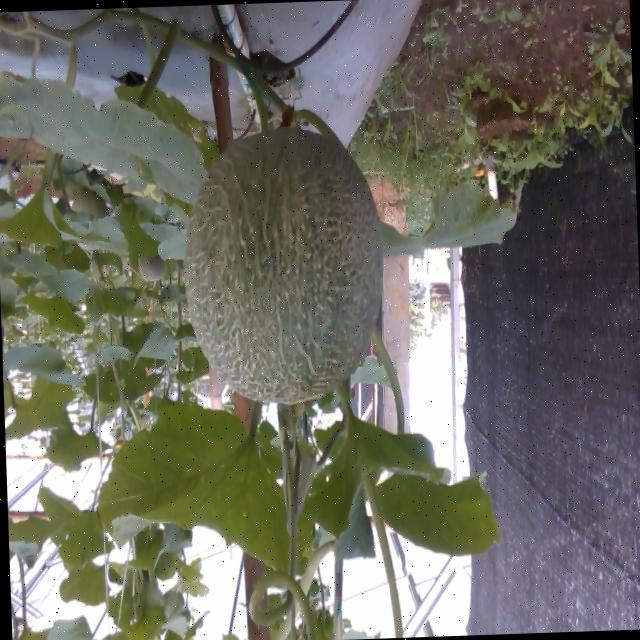melon: (184, 126, 380, 402)
